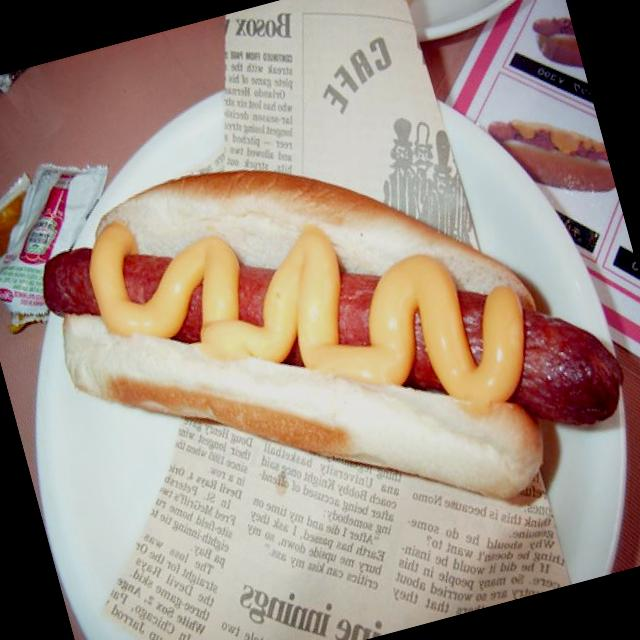Hot Dog: (27, 71, 636, 604)
